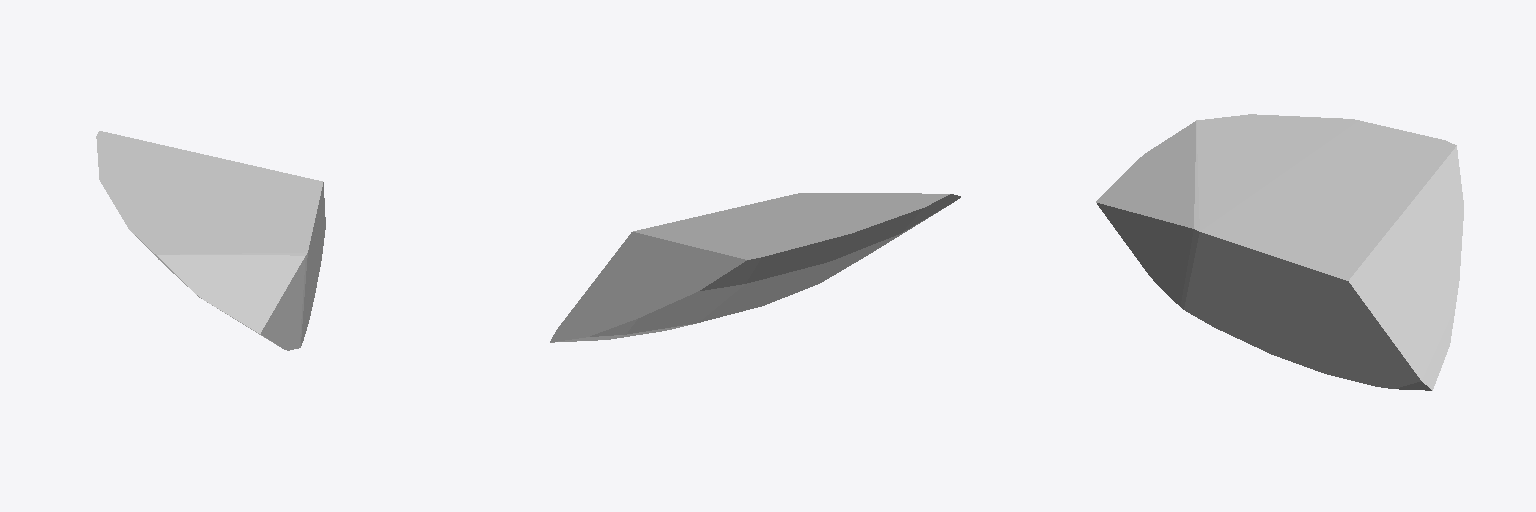
The model's file is Sphere_Cell_Fracture24.obj.
3 views of the same model, side by side, from view 1: azimuth 30°, elevation 25°; view 2: azimuth 150°, elevation 25°; view 3: azimuth 270°, elevation 25° (orthographic).
Bounding box in the file's own units: 0.4629 × 0.2441 × 0.5203.